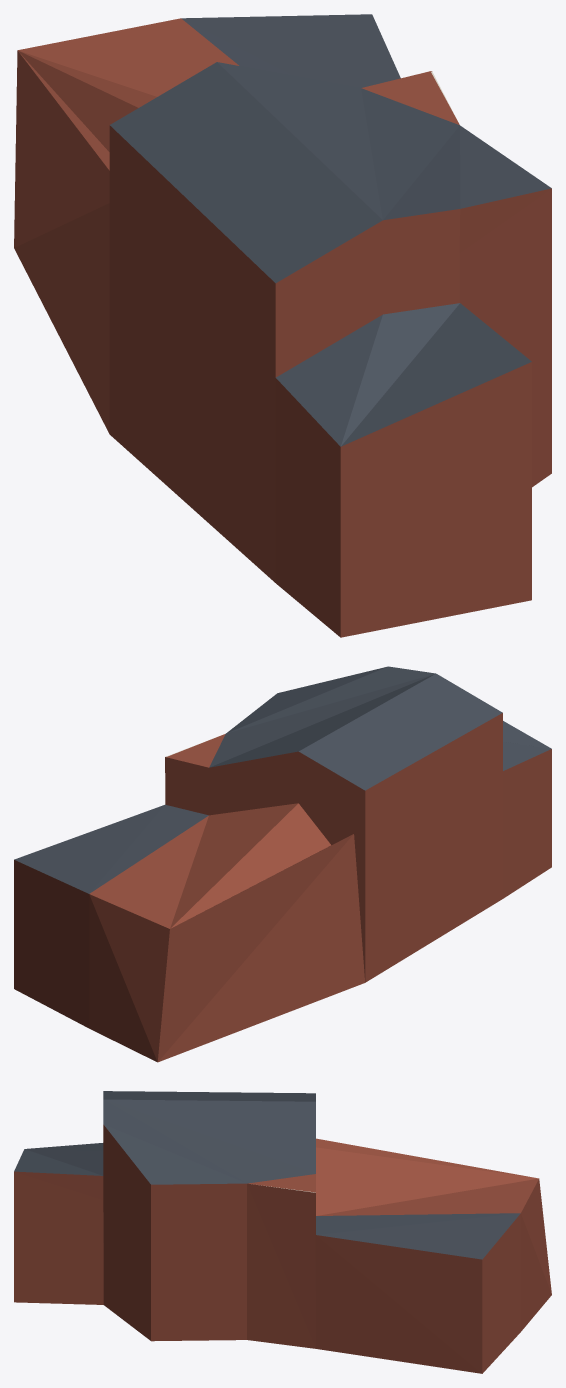
File: begijnhofkapel.lod2.glb
3 views of the same model, one above another, from view 1: azimuth 30°, elevation 25°; view 2: azimuth 150°, elevation 25°; view 3: azimuth 270°, elevation 25° (orthographic). The views are drawn at different scales.
Parts seen in each view (by area): view 1: lod2; view 2: lod2; view 3: lod2.
Boxes of the visible parts, x1,y1,x2,y2 form: lod2: (14,14,551,637); lod2: (14,666,551,1062); lod2: (14,1091,551,1373).
Size of the model in its own units: 21.42 by 15.8 by 40.52.
